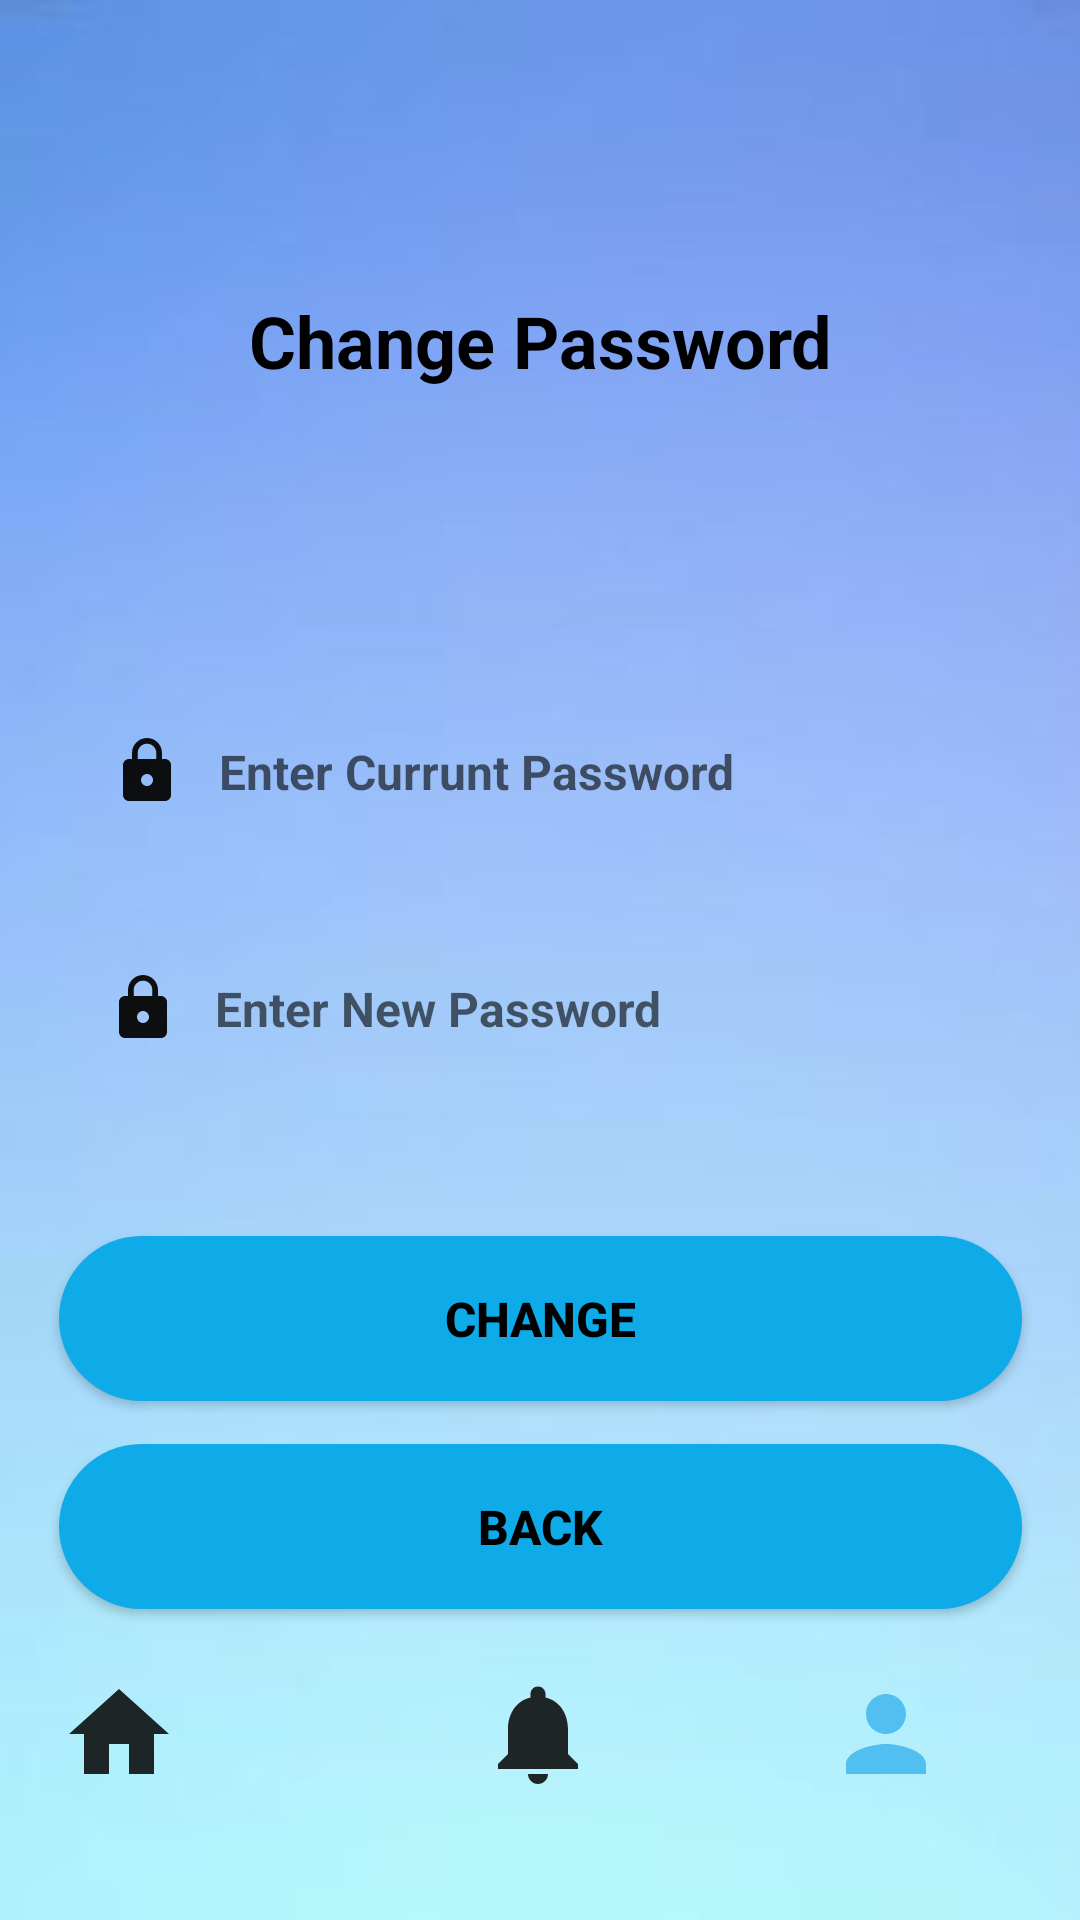

Locate icon controls on the screen. Image size 1080px×1920px, boxes as (x1, y1, x2, y2).
home: (69, 1689, 169, 1774)
notification: (498, 1686, 578, 1784)
profile: (846, 1694, 926, 1774)
